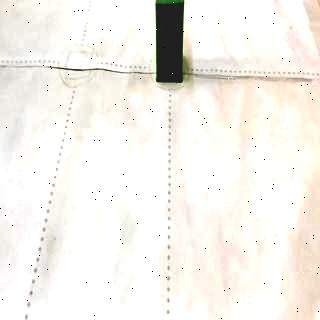greenbox: (156, 0, 184, 84)
